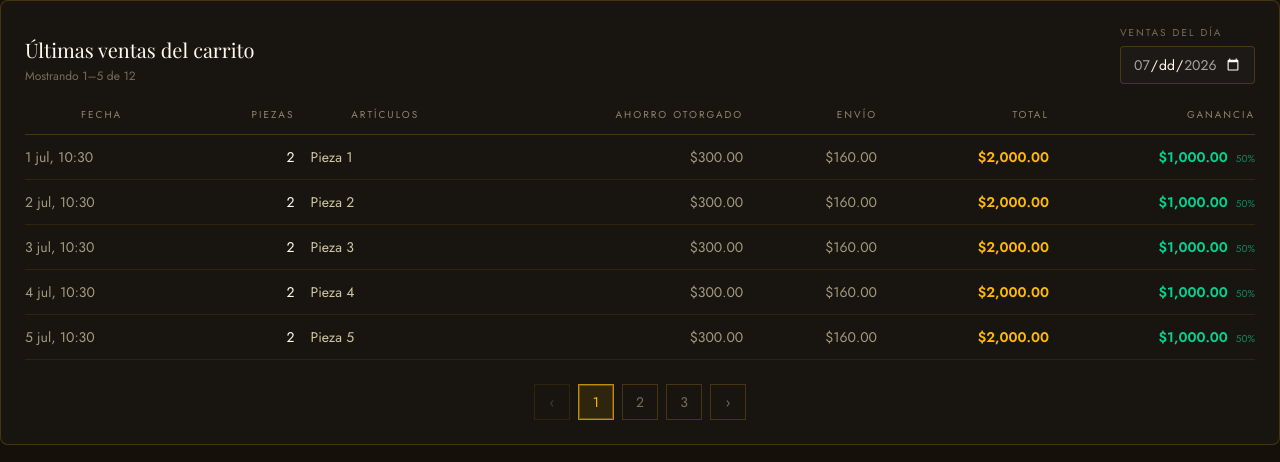
Test: SalesTable › elegir un día vuelve a la primera página
The image size is (1280, 462).
Click the button named "Página 3".
click(684, 402)  # box [666,384,702,420]
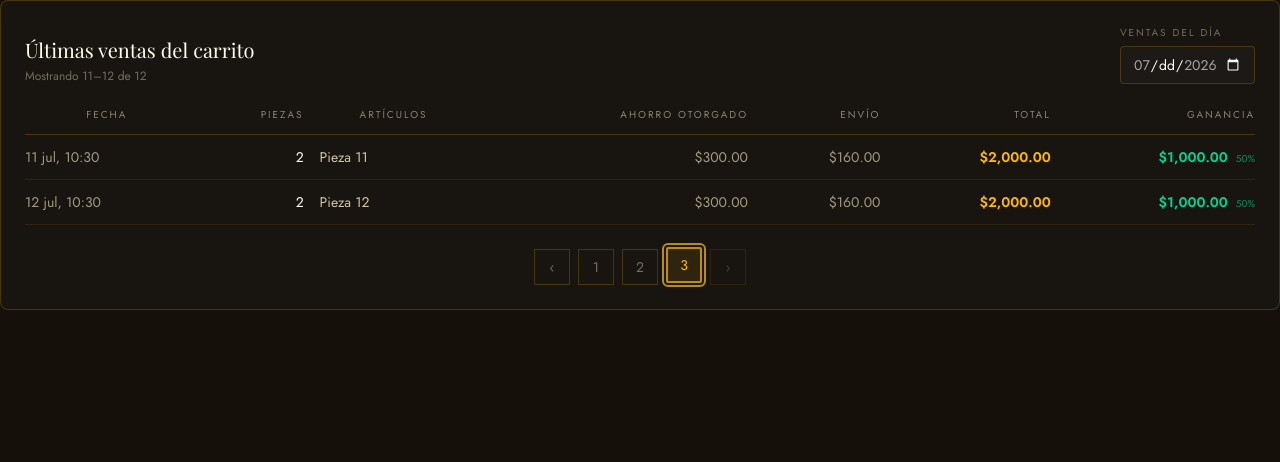
Now the text "Mostrando 11–12 de 12" is shown, box [25,67,146,85]
Type "2026-07-03" into the date field named "Filtrar ventas por día".
click(1188, 65); type("2026-07-03")  # box [1120,46,1255,84]
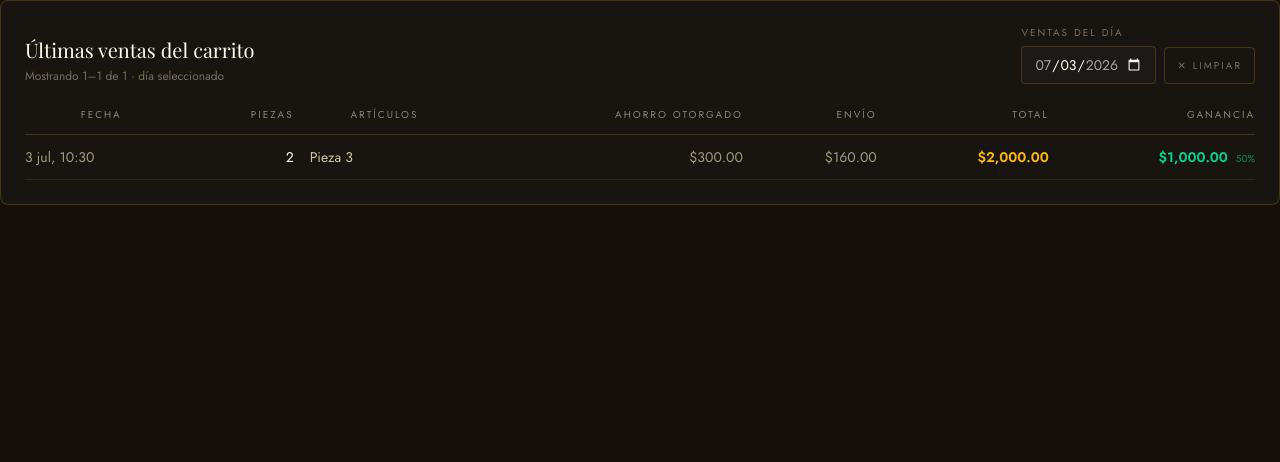
Now the text "Mostrando 1–1 de 1 · día seleccionado" is shown, box [25,68,255,84]
Now the text "Pieza 3" is shown, box [310,135,475,180]
